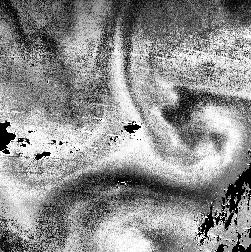CE: (136, 79, 245, 184)
